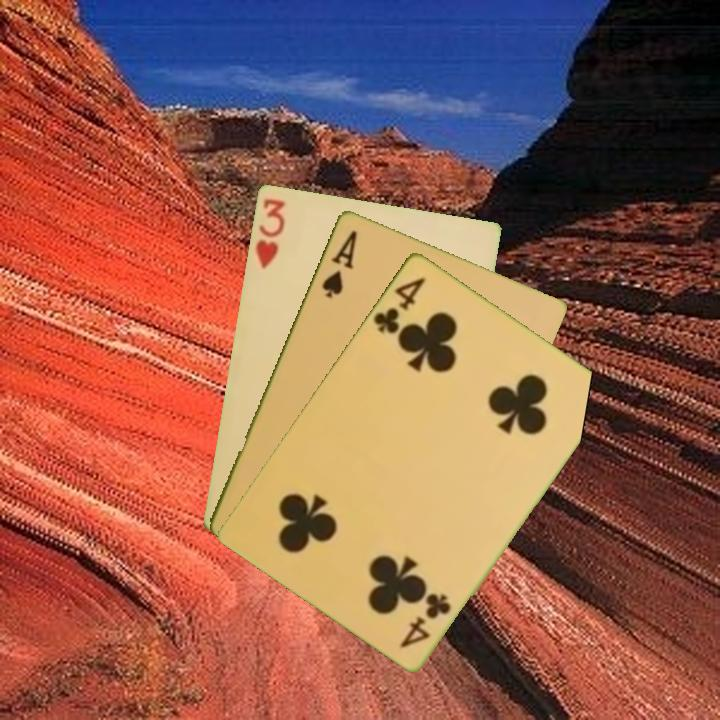3h: (251, 194, 287, 271)
4c: (369, 273, 428, 337), (396, 589, 454, 651)
As: (317, 226, 360, 301)
